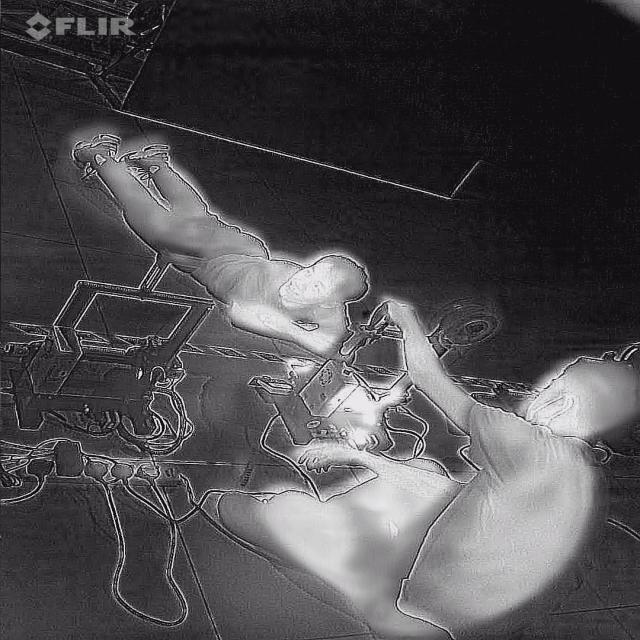Victim: (196, 289, 637, 636), (66, 128, 362, 347)
